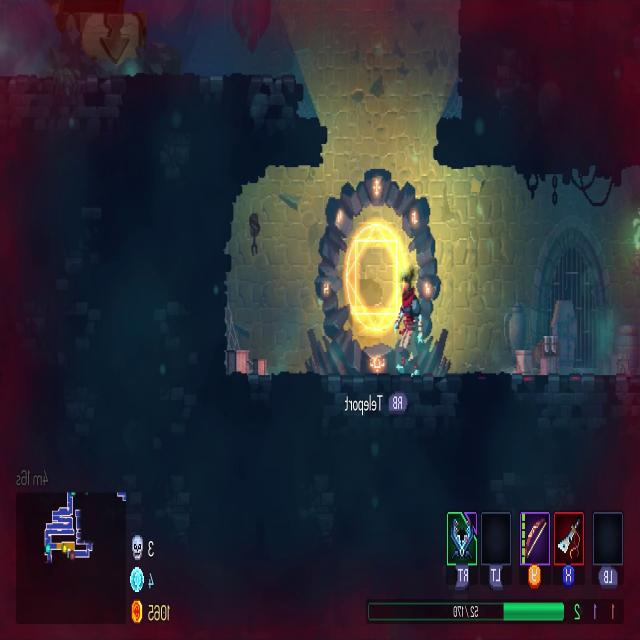agents: (394, 276, 424, 380)
